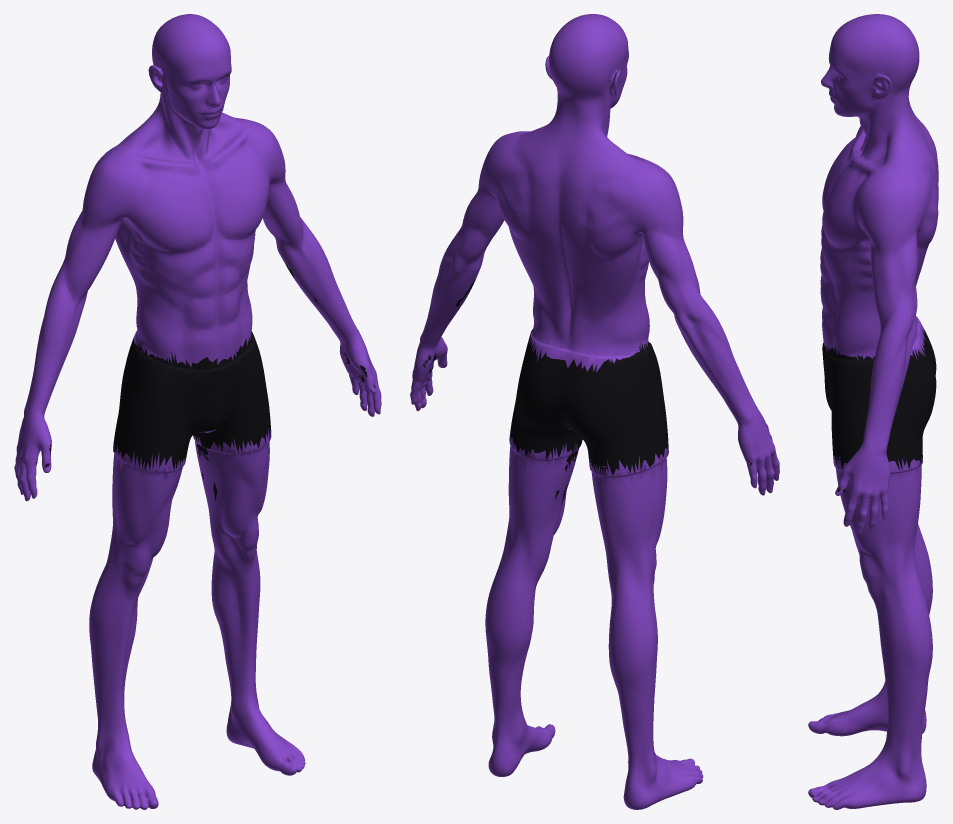
File: zen_m_b02_d3_60000.glb
3 views of the same model, side by side, from view 1: azimuth 30°, elevation 25°; view 2: azimuth 150°, elevation 25°; view 3: azimuth 270°, elevation 25° (orthographic).
Visible parts, largest first — view 1: mesh_node; view 2: mesh_node; view 3: mesh_node.
Boxes of the visible parts, left/top/right/bottom form: mesh_node: left=14, top=14, right=381, bottom=809; mesh_node: left=410, top=14, right=779, bottom=809; mesh_node: left=808, top=14, right=938, bottom=809.
Size of the model in its own units: 0.8664 by 1.75 by 0.2759.
